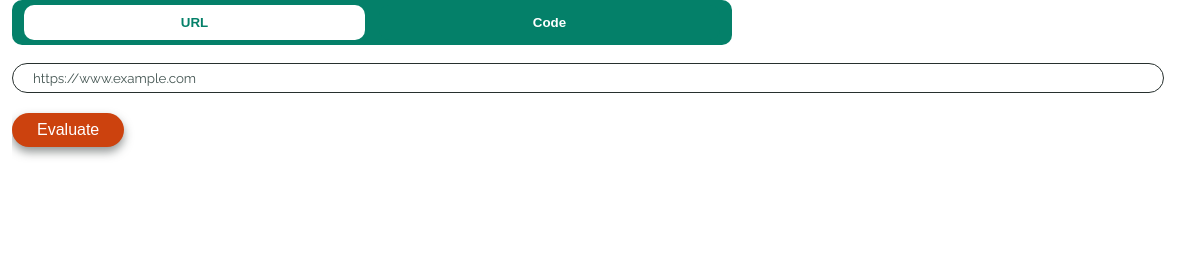
Scenario: Evaluation Tabs › should display code evaluation by click the code tab
Step 1. Click the tab "Code" → (550, 22), box [379, 5, 720, 40]
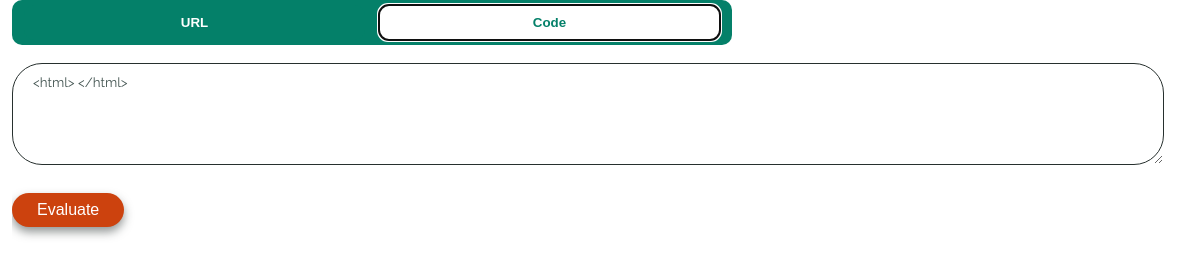
expect the text box named "Code" is shown: met, box [12, 63, 1164, 165]
